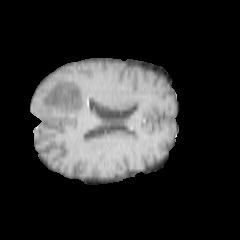glioma: (38, 79, 107, 126)
